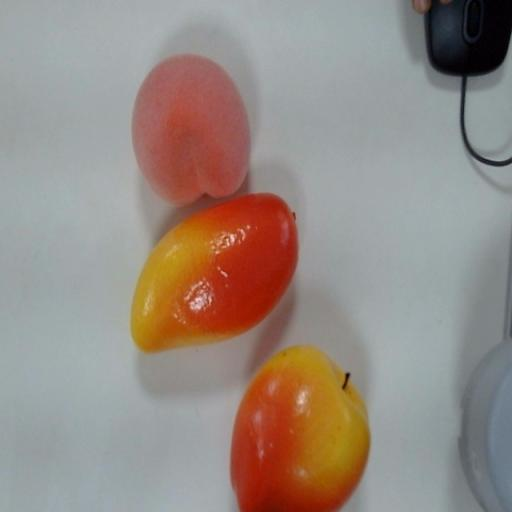Ripe: (126, 190, 308, 356), (230, 342, 374, 512), (127, 55, 270, 199)
